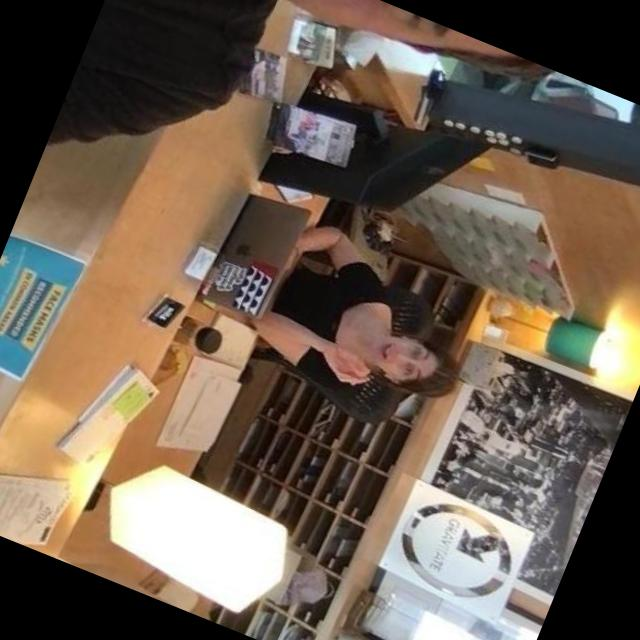bareface: (358, 322, 463, 402)
